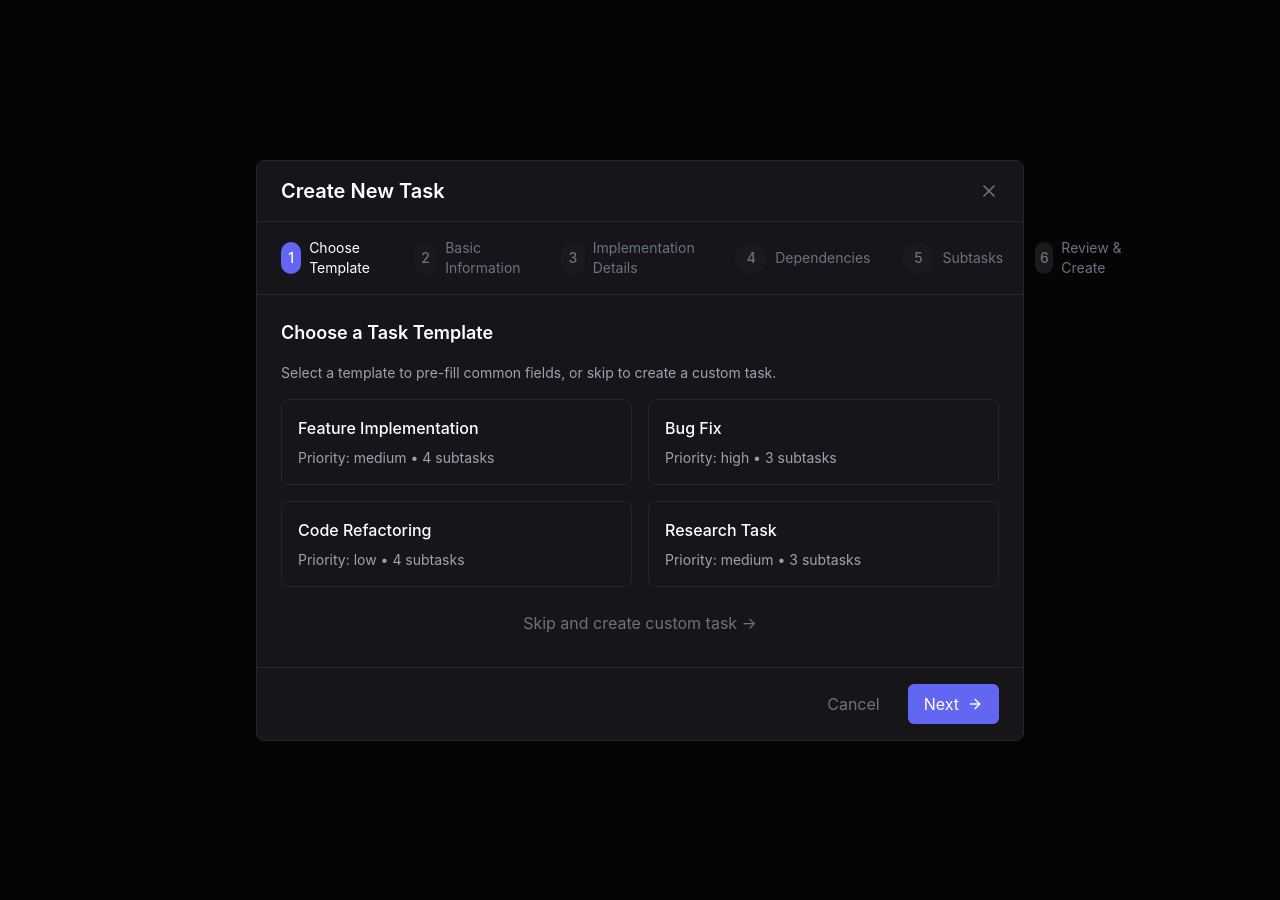
Test: TaskCreationWizard › handles task creation error
// Fill out the form
Click the button "Skip and create custom task →" at x=640, y=622, box [281,602,999,642]
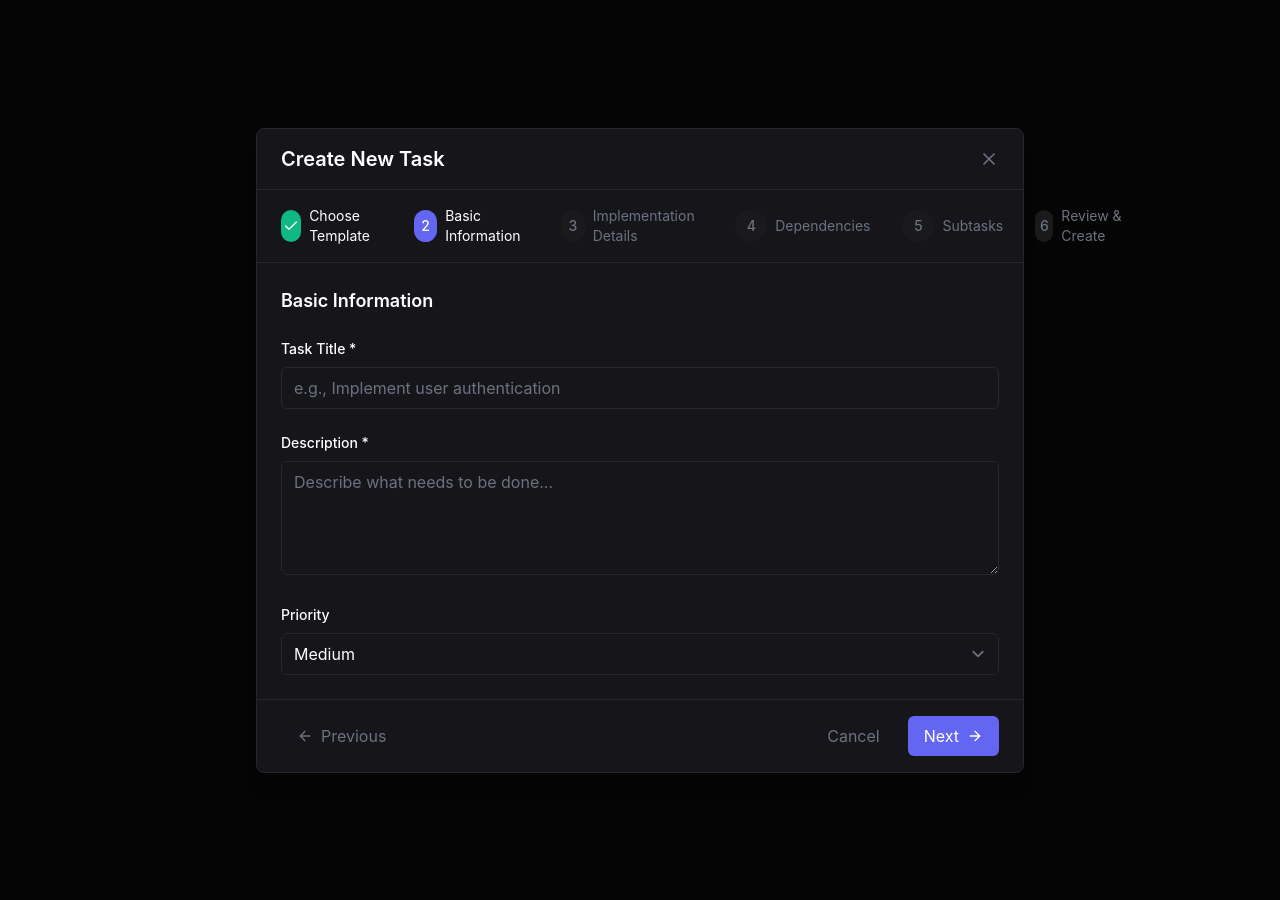
Type "New Test Task" into the field with placeholder "e.g., Implement user authentication" at x=640, y=388, box [281,366,999,408]
Type "New test task description" into the text box with placeholder "Describe what needs to be done..." at x=640, y=518, box [281,460,999,574]
// Navigate to review
Click the button "Next" at x=953, y=736, box [908,716,999,756]
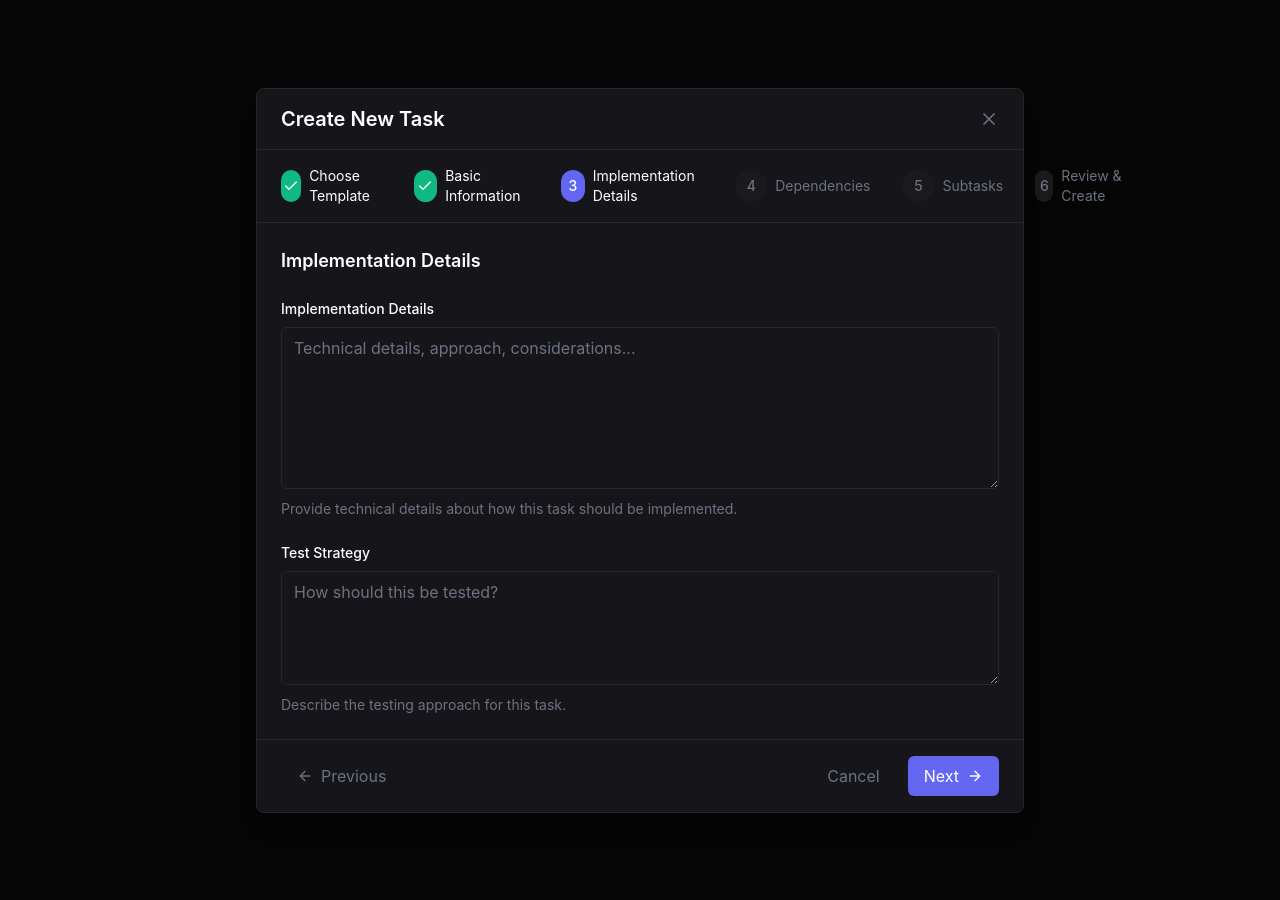
Click the button "Next" at x=953, y=776, box [908,756,999,796]
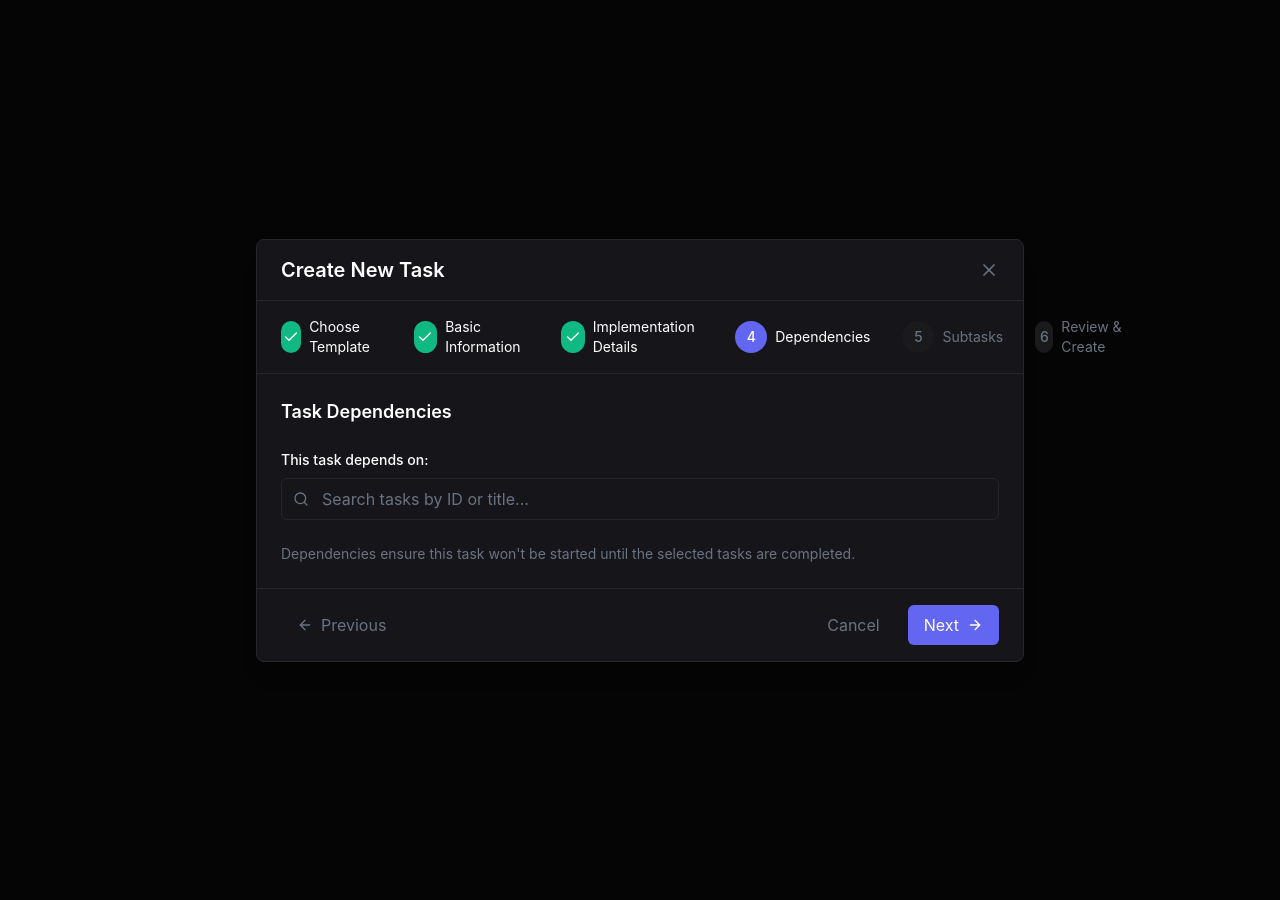
Click the button "Next" at x=953, y=624, box [908,604,999,644]
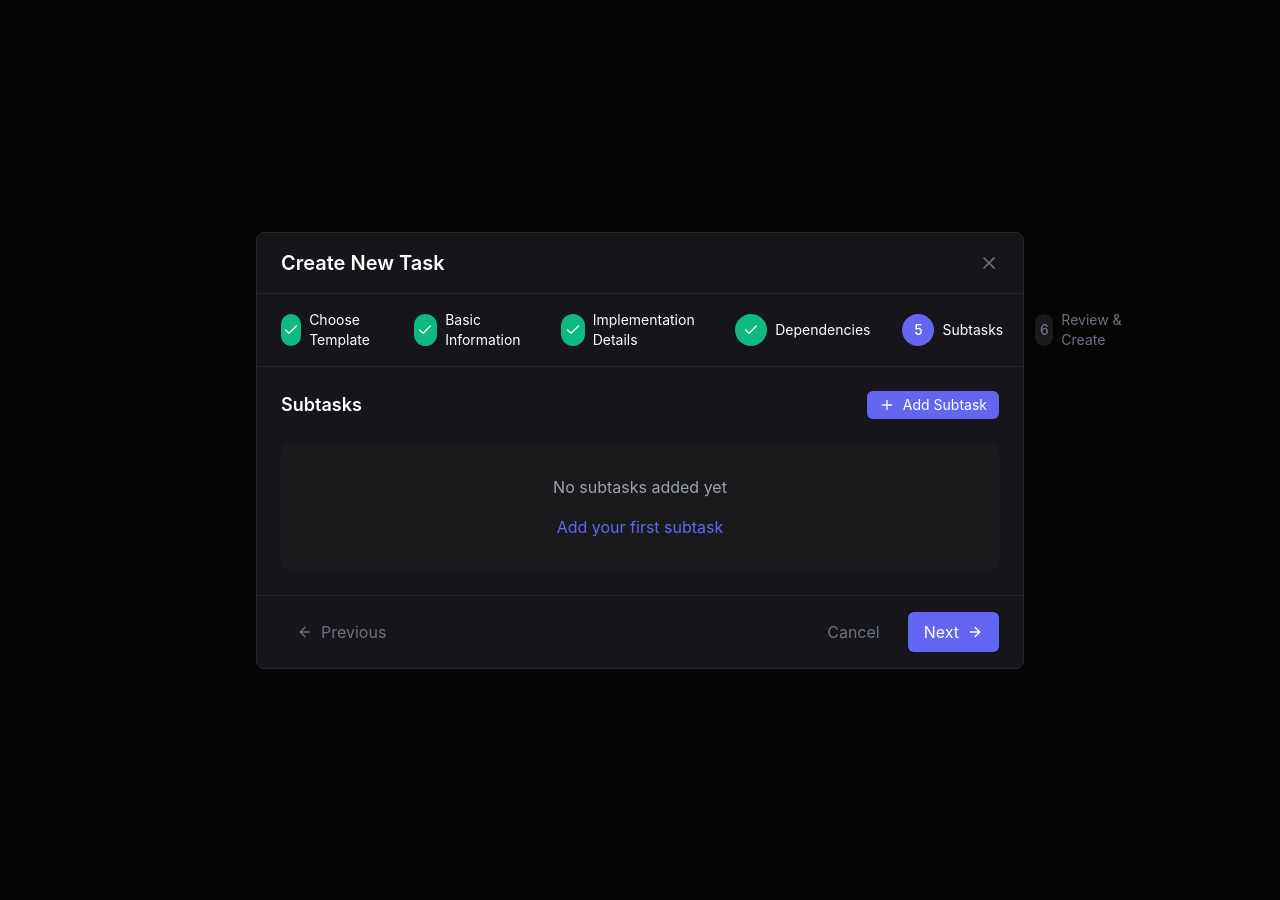
Click the button "Next" at x=953, y=632, box [908,612,999,652]
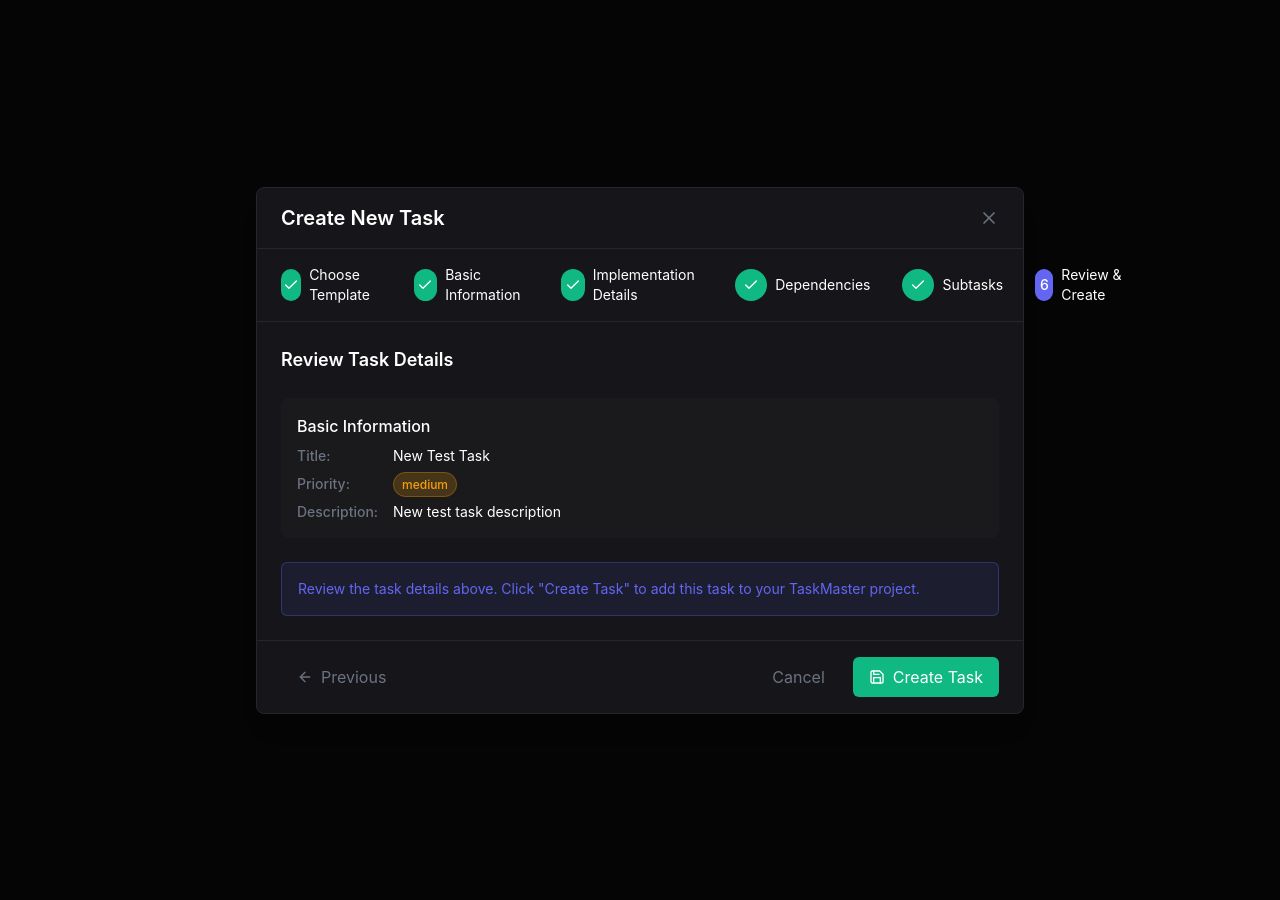
// Try to create task
Click the button "Create Task" at x=926, y=676, box [853,656,999,696]
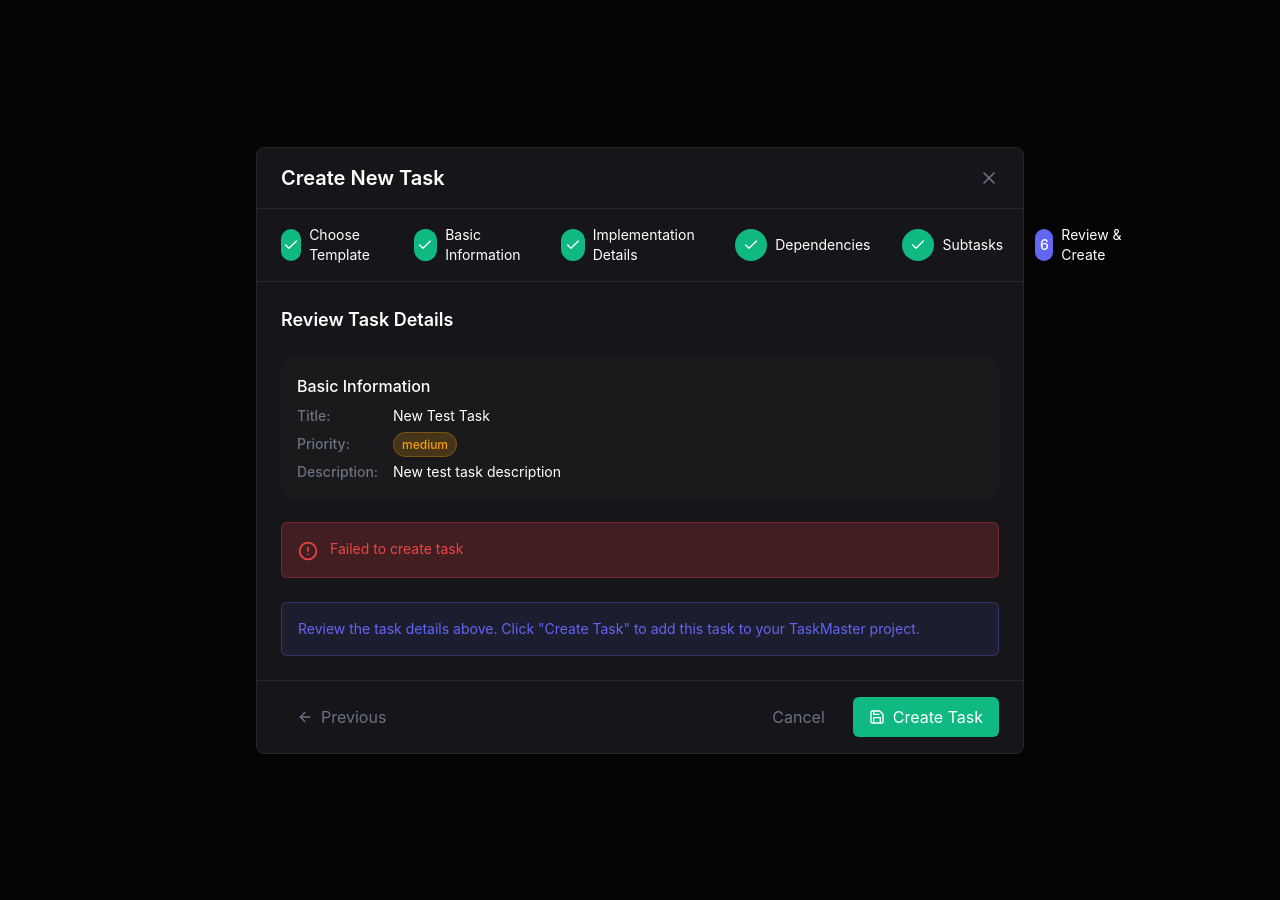
Result: the text "Failed to create task" is shown at [330,538,463,558]
